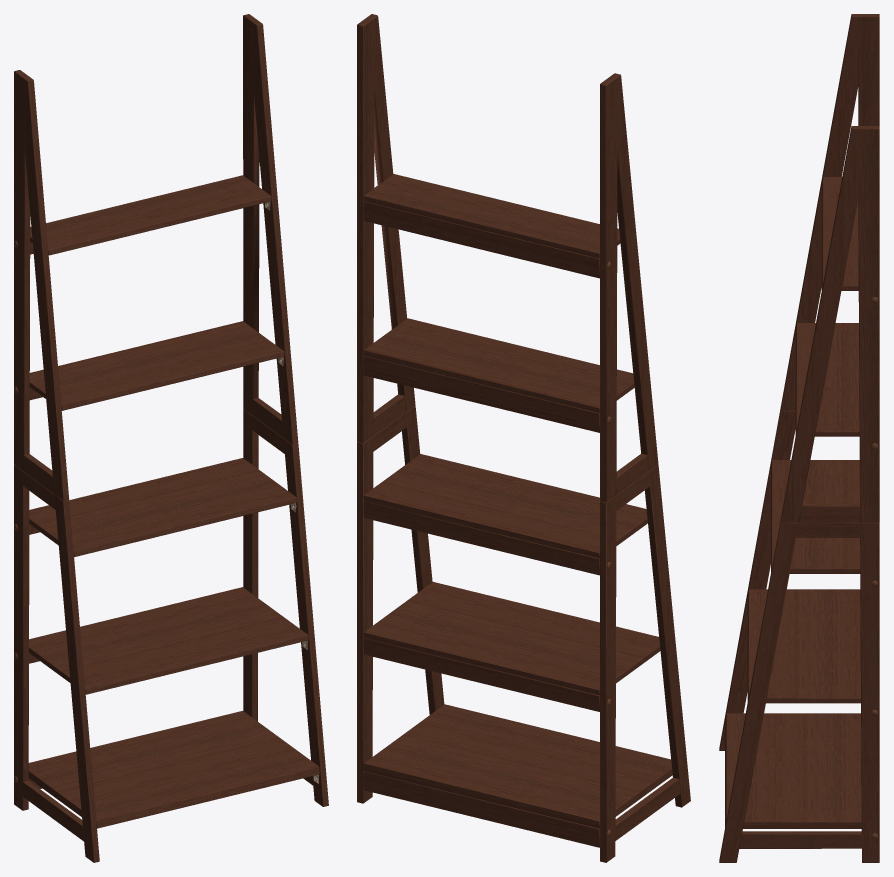
Rendered from B07PMK78R8.glb.
The picture shows the model from 3 angles, left to right: view 1: azimuth 30°, elevation 25°; view 2: azimuth 150°, elevation 25°; view 3: azimuth 270°, elevation 25°; orthographic projection. The views are drawn at different scales.
Visible parts, largest first — view 1: B07PMK78R8; view 2: B07PMK78R8; view 3: B07PMK78R8.
Part boxes in pixels (x1,y1,x2,y2): B07PMK78R8: [14, 14, 328, 862]; B07PMK78R8: [357, 14, 690, 862]; B07PMK78R8: [719, 14, 879, 862].
Size of the model in its own units: 0.5999 by 1.77 by 0.35.
Materials: 1 (1 with a texture image).
